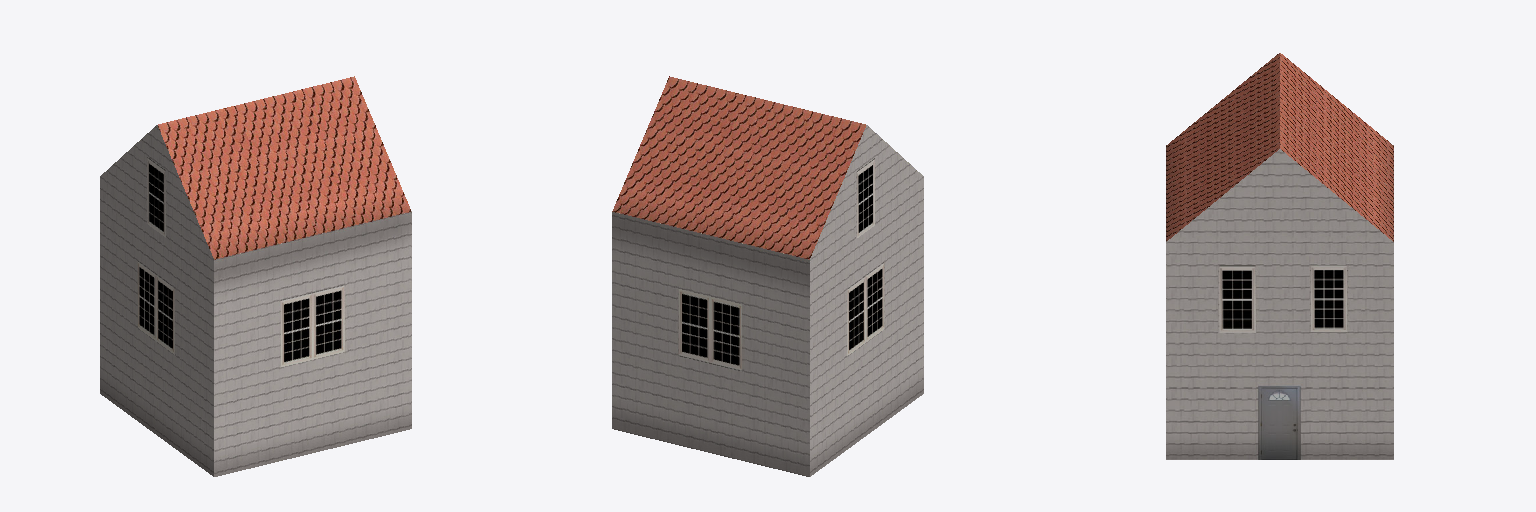
3 renders of one model, left to right at view 1: azimuth 30°, elevation 25°; view 2: azimuth 150°, elevation 25°; view 3: azimuth 270°, elevation 25°, orthographic.
Parts seen in each view (by area): view 1: Cube.001; view 2: Cube.001; view 3: Cube.001.
Boxes of the visible parts, x1,y1,x2,y2 form: Cube.001: [100, 76, 411, 476]; Cube.001: [612, 76, 923, 476]; Cube.001: [1166, 53, 1393, 459].
Bounding box in the file's own units: 9.25 × 13.91 × 9.25.
Materials: 1 (1 with a texture image).